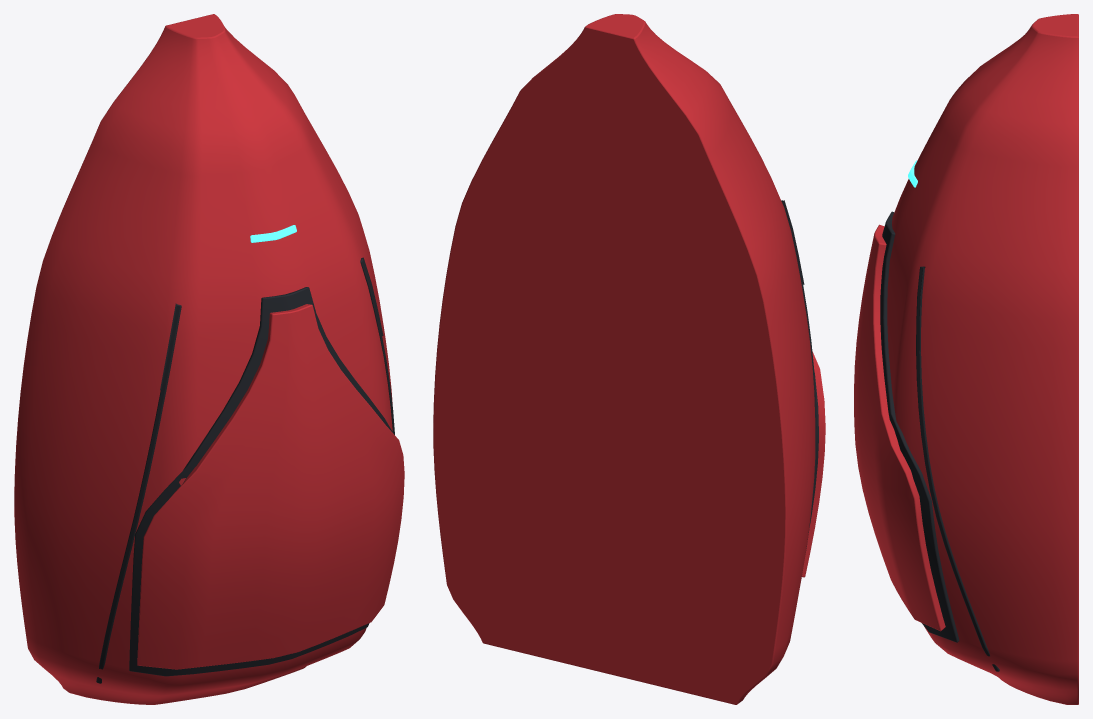
File: CalfFront_Set01_Ironclad.fbx
The picture shows the model from 3 angles, left to right: view 1: azimuth 30°, elevation 25°; view 2: azimuth 150°, elevation 25°; view 3: azimuth 270°, elevation 25°; orthographic projection. The views are drawn at different scales.
Visible parts, largest first — view 1: CalfFront_Set01_Ironclad; view 2: CalfFront_Set01_Ironclad; view 3: CalfFront_Set01_Ironclad.
Part boxes in pixels (bbox=[...]): CalfFront_Set01_Ironclad: bbox=[14, 14, 404, 704]; CalfFront_Set01_Ironclad: bbox=[433, 14, 825, 704]; CalfFront_Set01_Ironclad: bbox=[854, 14, 1078, 704].
Bounding box in the file's own units: 0.4205 × 0.73 × 0.2399.
